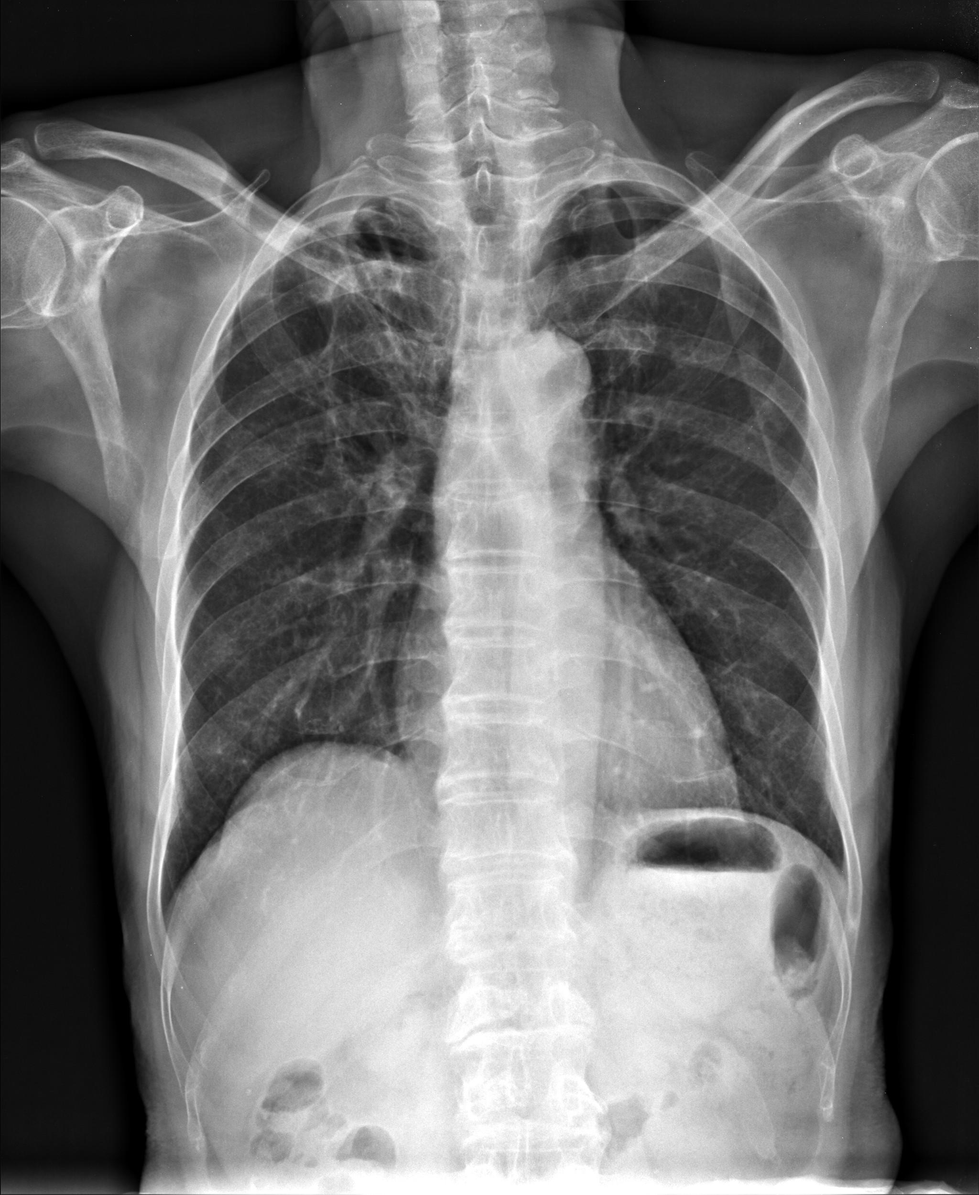Pulmonary fibrosis: (246, 178, 448, 418)
